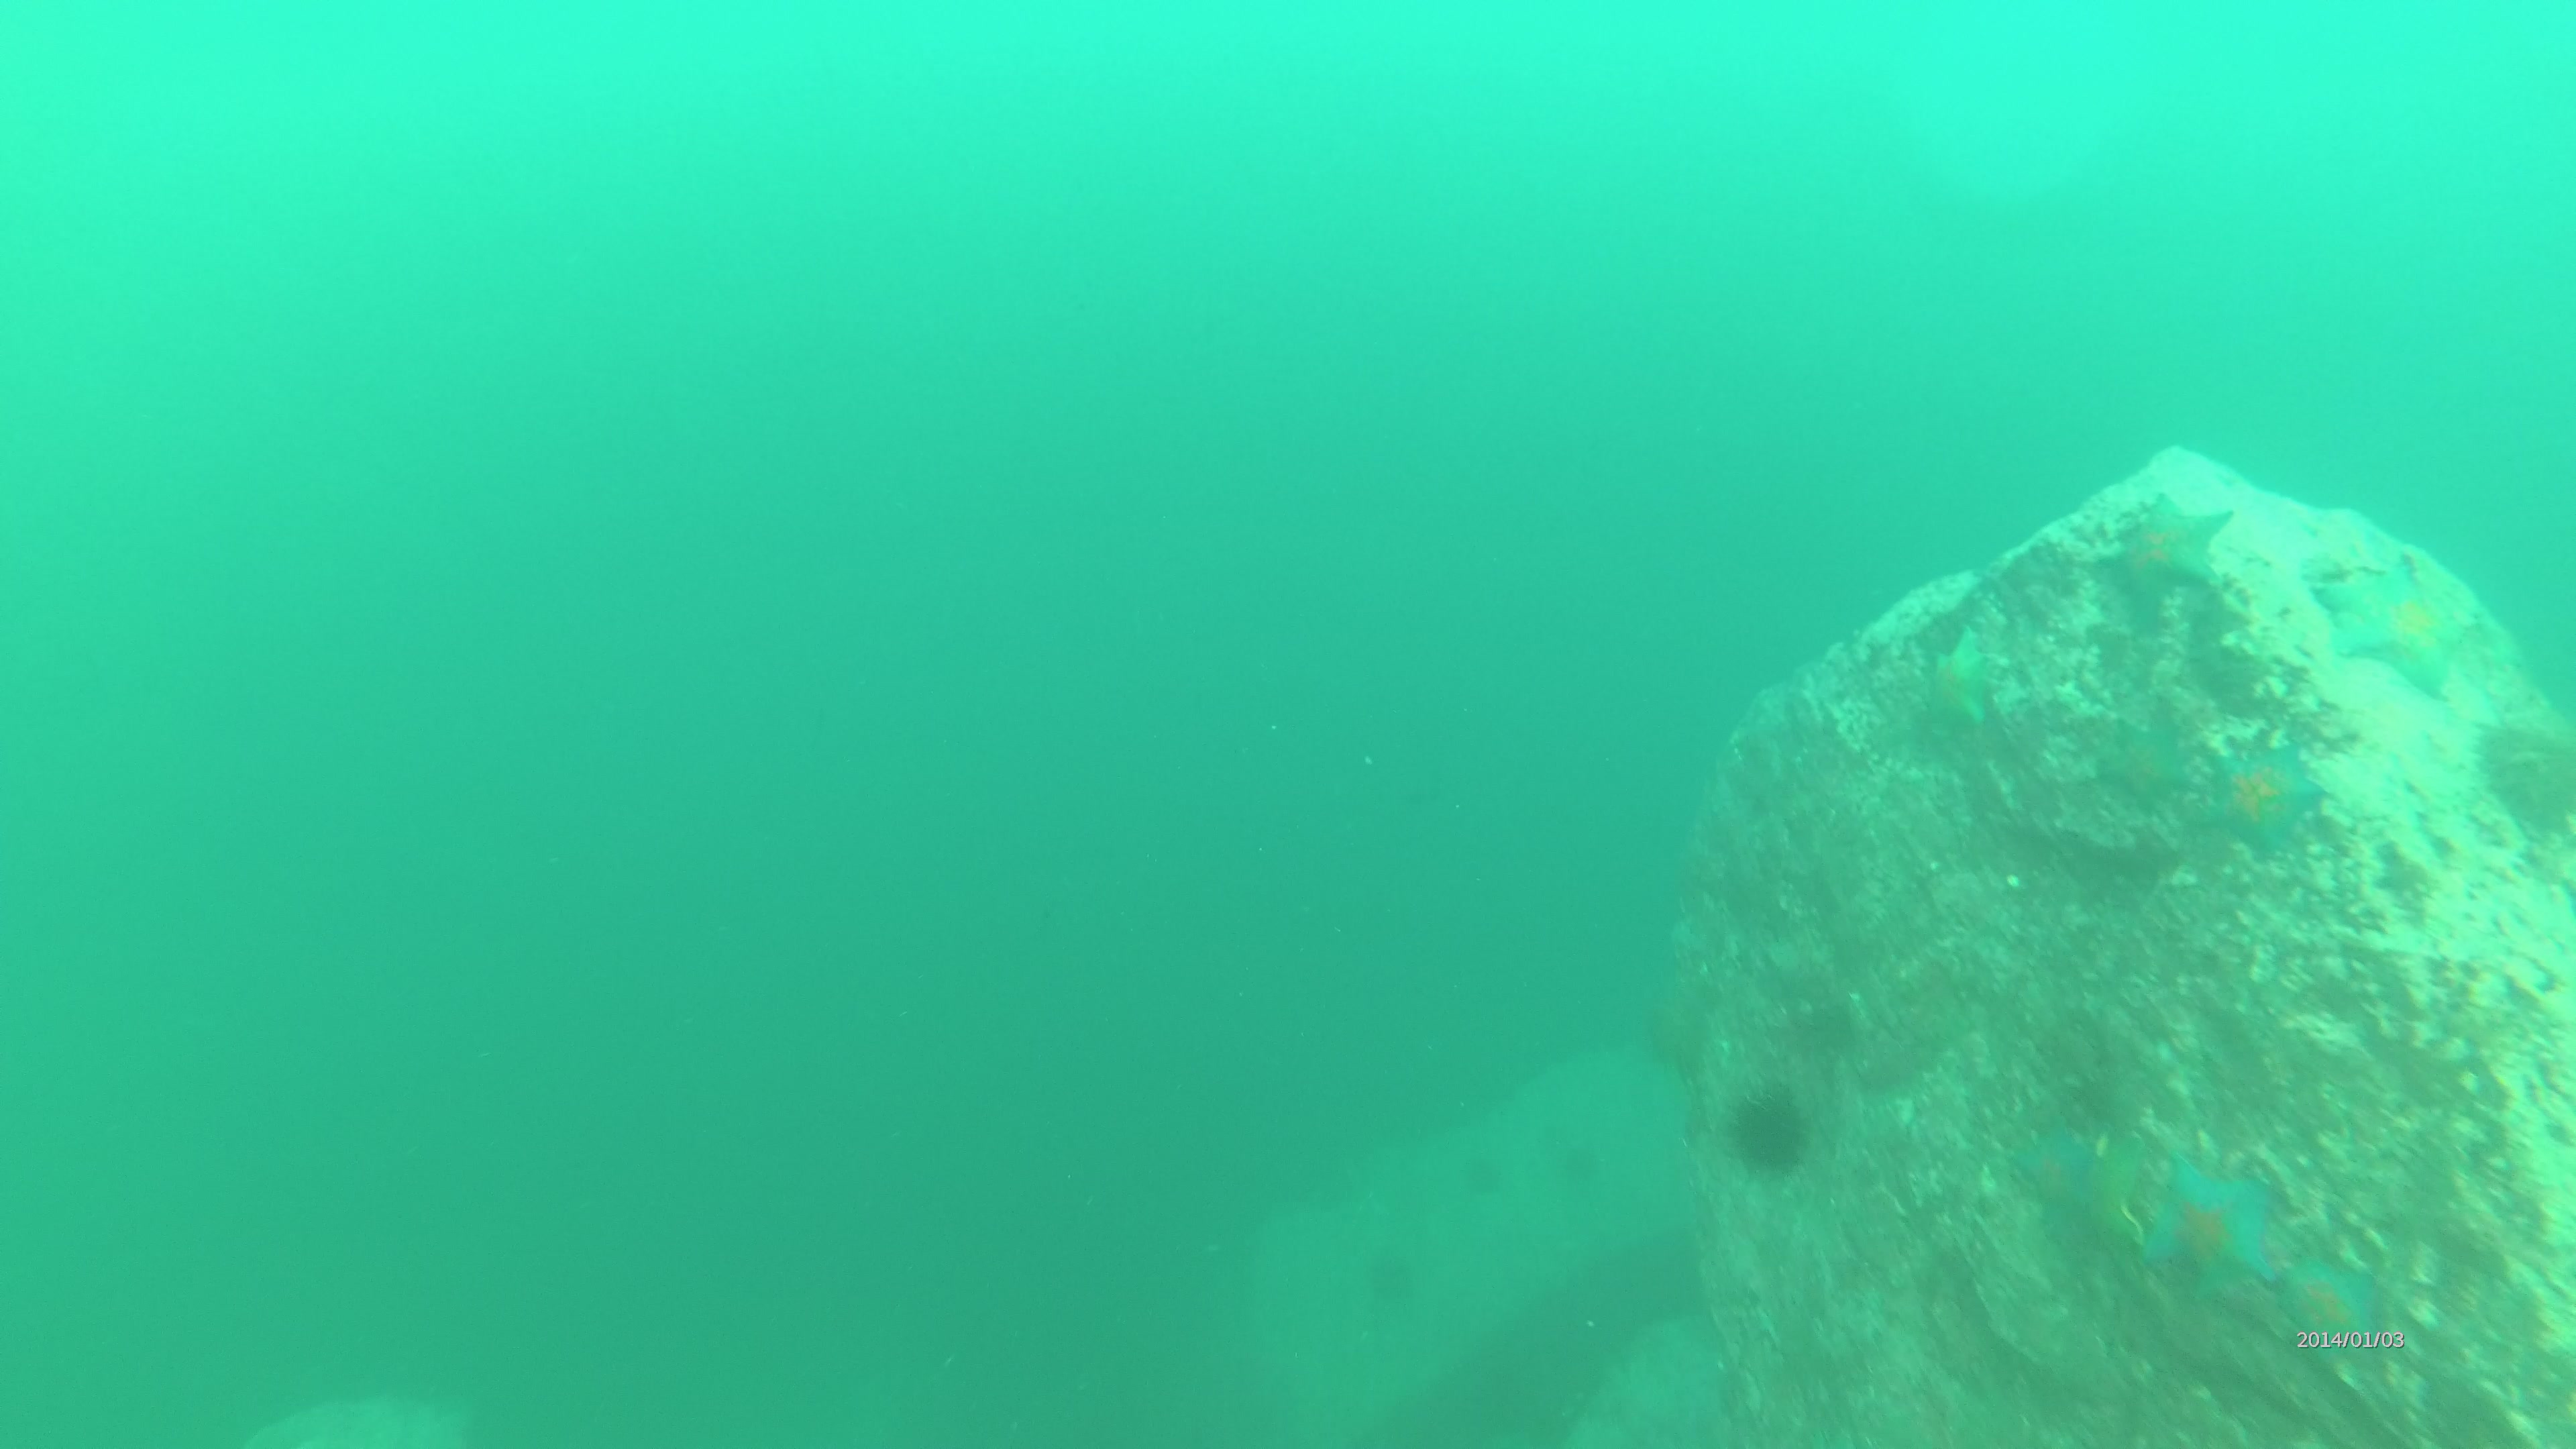echinus: (2484, 711, 2576, 846), (1727, 1081, 1824, 1173)
starfish: (2321, 550, 2484, 694), (2150, 1159, 2289, 1304), (2190, 736, 2335, 867), (2012, 1122, 2146, 1253), (2098, 494, 2236, 607), (2279, 1254, 2392, 1371), (1921, 623, 2008, 731)
